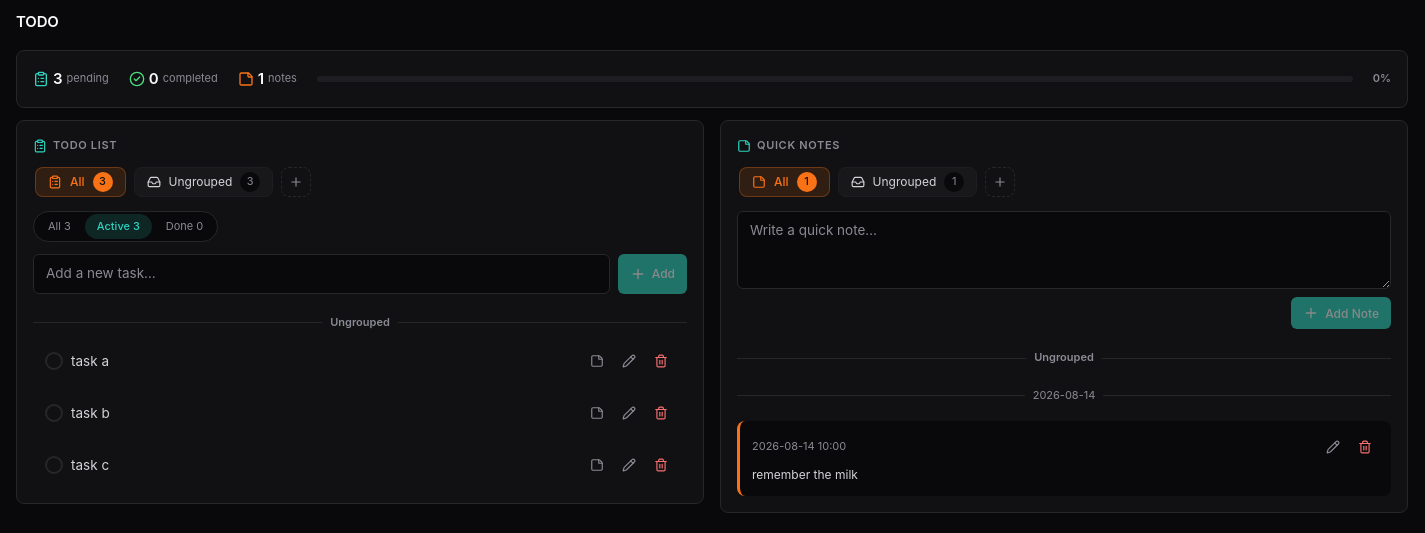
it: TodoPage › cancels inline editing when another action refreshes the items list
Click the button named "Edit" in the row of "task b" at [629, 413], box [615,399,643,427]
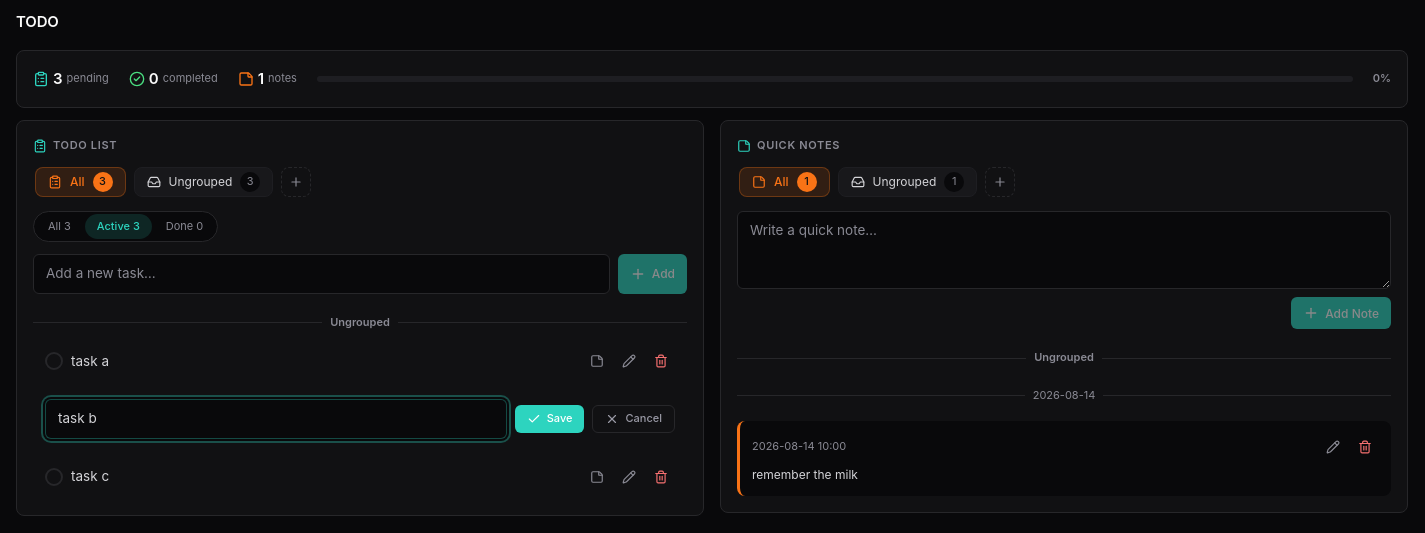
Click the button named "Delete" in the row of "task a" at [661, 361], box [647,347,675,375]
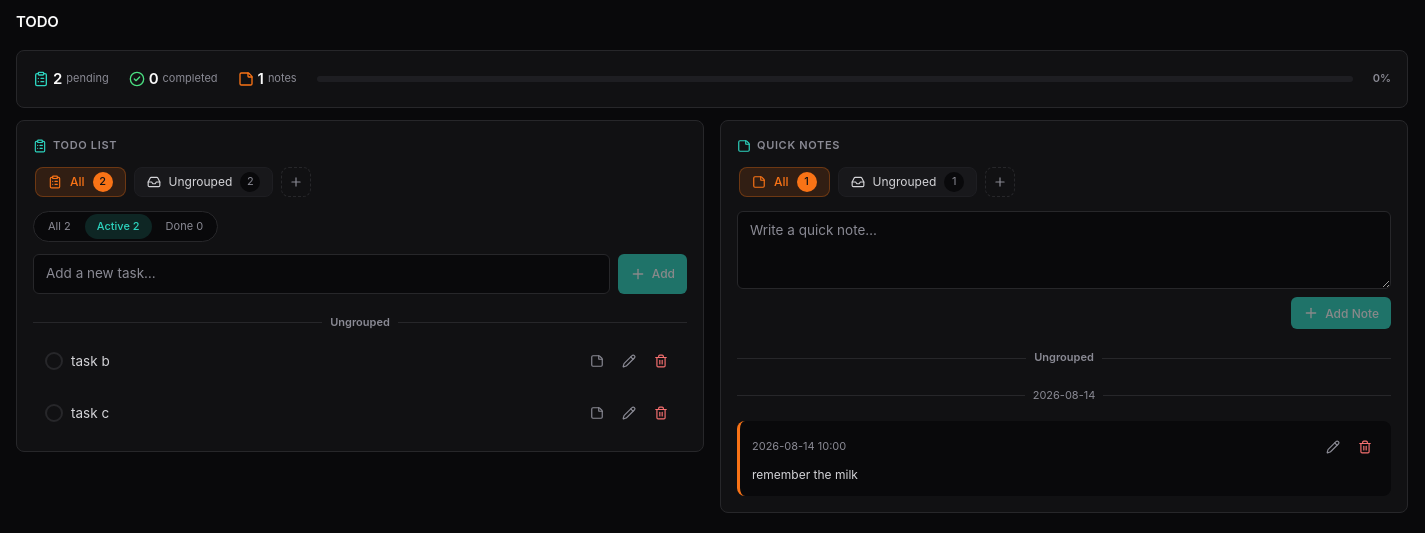
Expected: the text "task b" is shown, [71,353,110,369]
